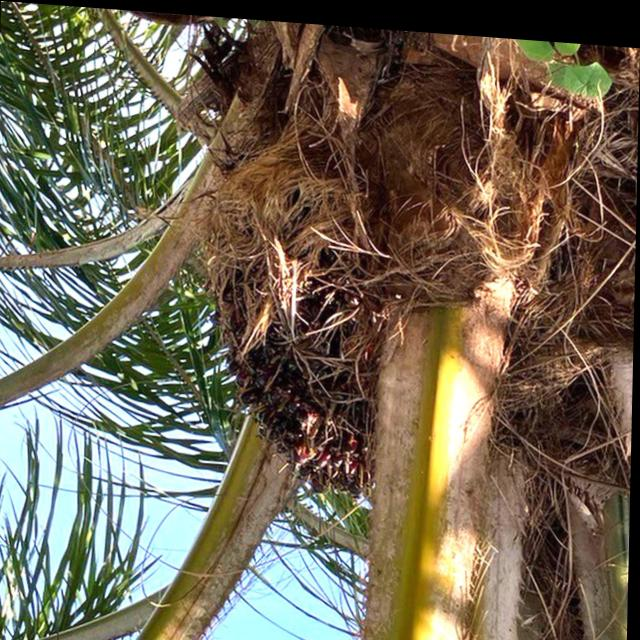ripe: (229, 289, 384, 488)
